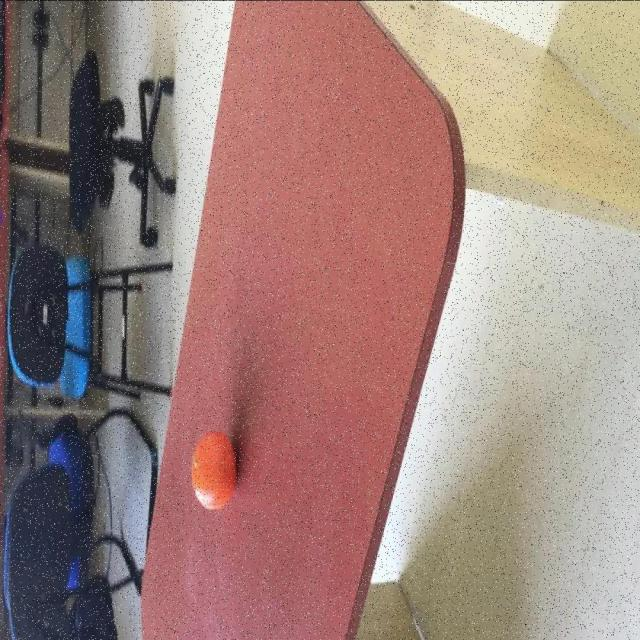Orange: (191, 429, 237, 508)
